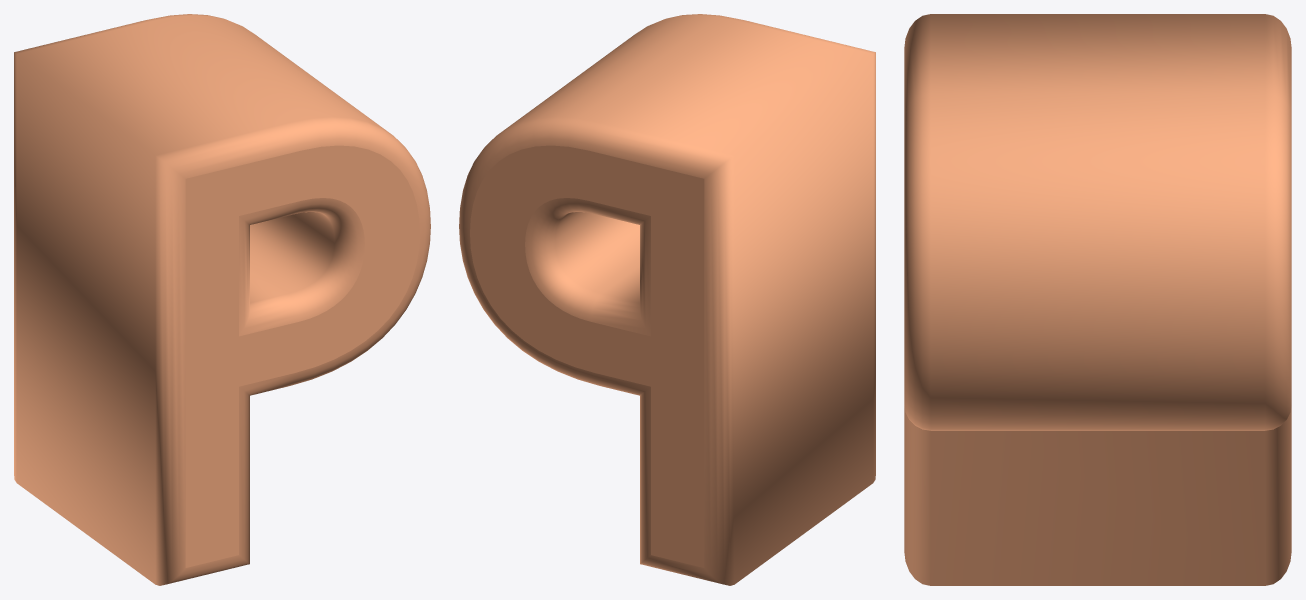
The model's file is letter_P.glb.
3 views of the same model, side by side, from view 1: azimuth 30°, elevation 25°; view 2: azimuth 150°, elevation 25°; view 3: azimuth 270°, elevation 25° (orthographic). The views are drawn at different scales.
Parts seen in each view (by area): view 1: Text; view 2: Text; view 3: Text.
Boxes of the visible parts, x1,y1,x2,y2 form: Text: (14,14,430,585); Text: (459,14,875,585); Text: (904,14,1291,585).
Bounding box in the file's own units: 0.5001 × 0.752 × 0.51.
